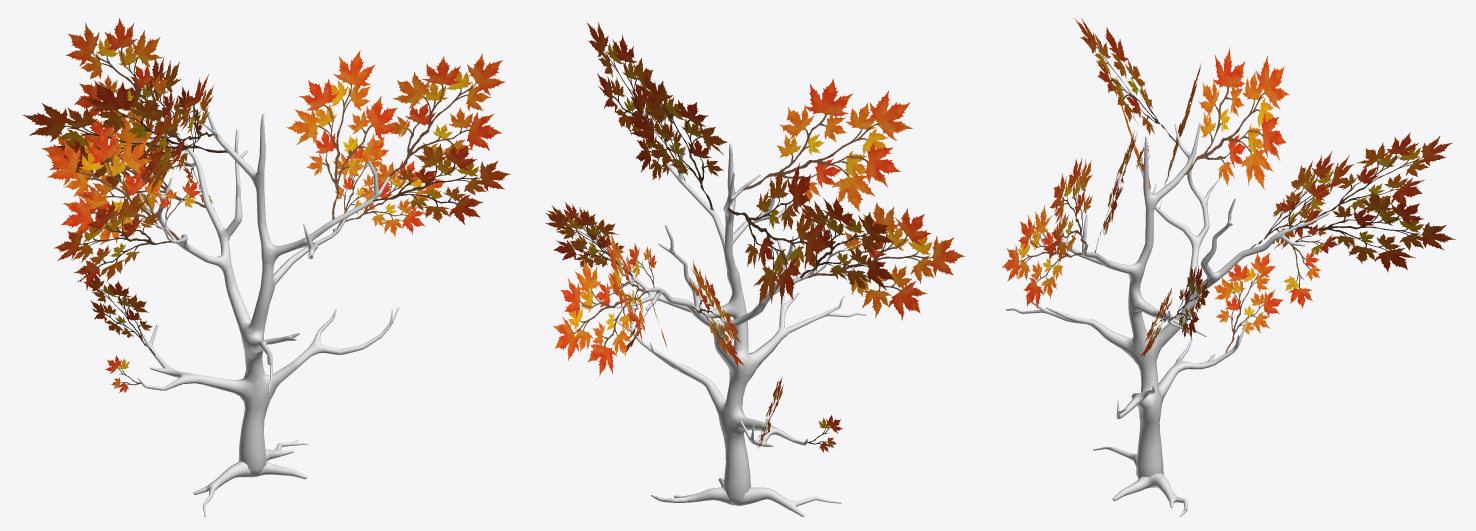
The model's file is treetest.fbx.
3 renders of one model, left to right at view 1: azimuth 30°, elevation 25°; view 2: azimuth 150°, elevation 25°; view 3: azimuth 270°, elevation 25°, orthographic. The views are drawn at different scales.
Visible parts, largest first — view 1: Plane.004, mapletree, mapletree_roots; view 2: Plane.004, mapletree, mapletree_roots; view 3: Plane.004, mapletree, mapletree_roots.
Boxes of the visible parts, <box> form: Plane.004: <box>23,18,510,393</box>; mapletree: <box>136,107,399,476</box>; mapletree_roots: <box>193,440,308,516</box>; Plane.004: <box>545,22,965,452</box>; mapletree: <box>609,143,866,505</box>; mapletree_roots: <box>651,478,841,516</box>; Plane.004: <box>1002,18,1455,359</box>; mapletree: <box>1006,123,1329,478</box>; mapletree_roots: <box>1093,446,1187,516</box>.
Bounding box in the file's own units: 899 × 887 × 870.
Materials: 1 (1 with a texture image).
